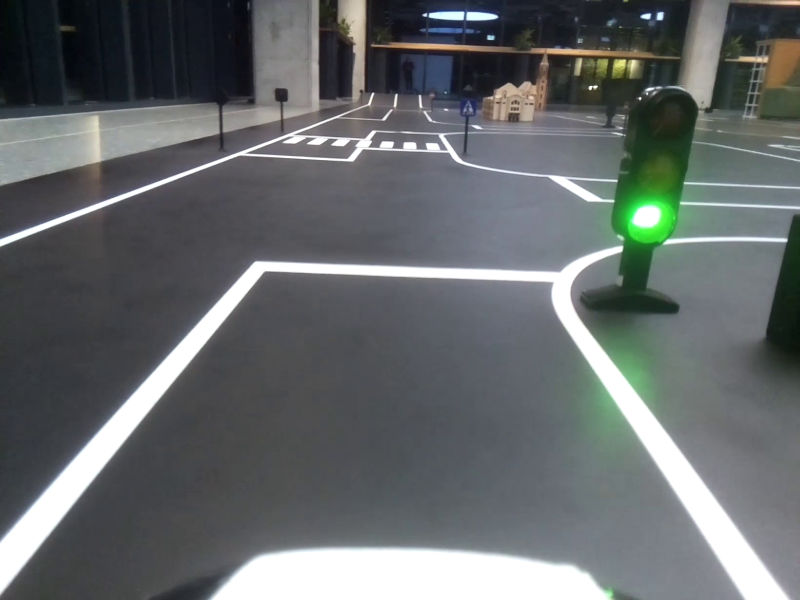traffic_green: (615, 92, 692, 241)
